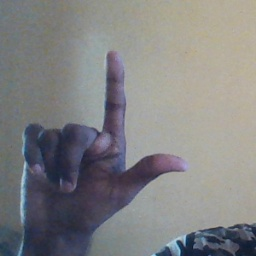L: (19, 48, 190, 233)
